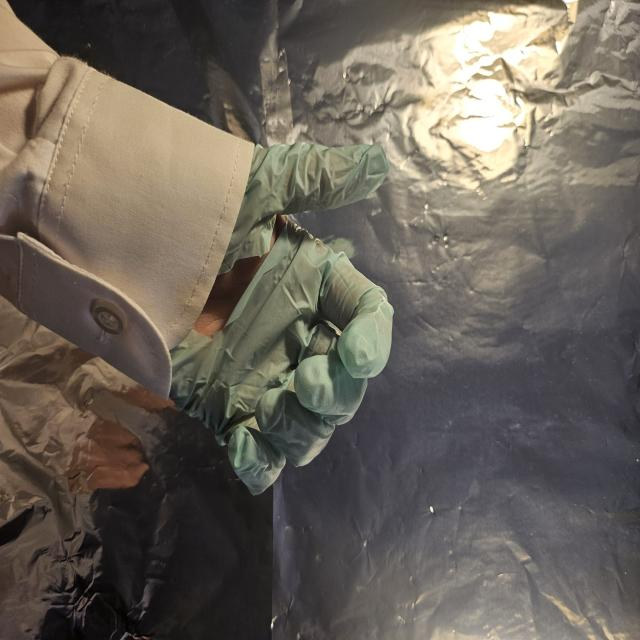gloves_damaged: (161, 139, 400, 494)
